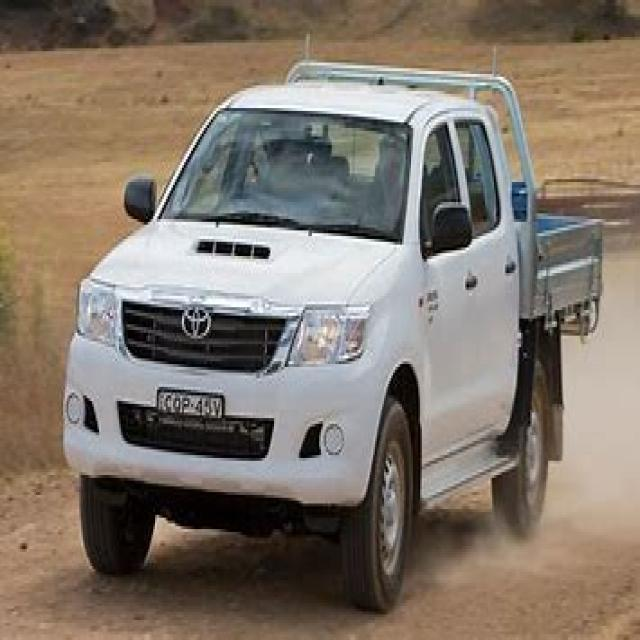light_vehicle: (50, 40, 604, 609)
